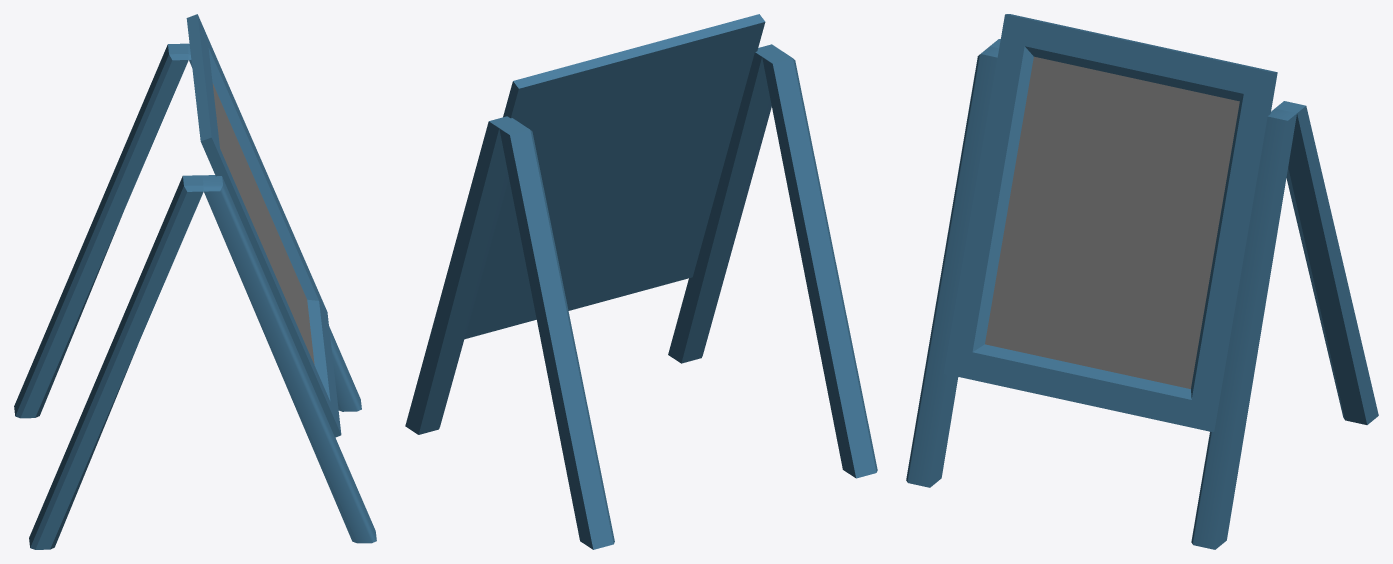
Rendered from SM_Pizza_Banner1.fbx.
The picture shows the model from 3 angles, left to right: view 1: azimuth 30°, elevation 25°; view 2: azimuth 150°, elevation 25°; view 3: azimuth 270°, elevation 25°; orthographic projection. The views are drawn at different scales.
Parts seen in each view (by area): view 1: SM_Pizza_Banner1; view 2: SM_Pizza_Banner1; view 3: SM_Pizza_Banner1.
Boxes of the visible parts, left/top/right/bottom form: SM_Pizza_Banner1: left=14, top=14, right=376, bottom=549; SM_Pizza_Banner1: left=405, top=14, right=877, bottom=549; SM_Pizza_Banner1: left=906, top=14, right=1378, bottom=549.
Bounding box in the file's own units: 109 × 104 × 109.
